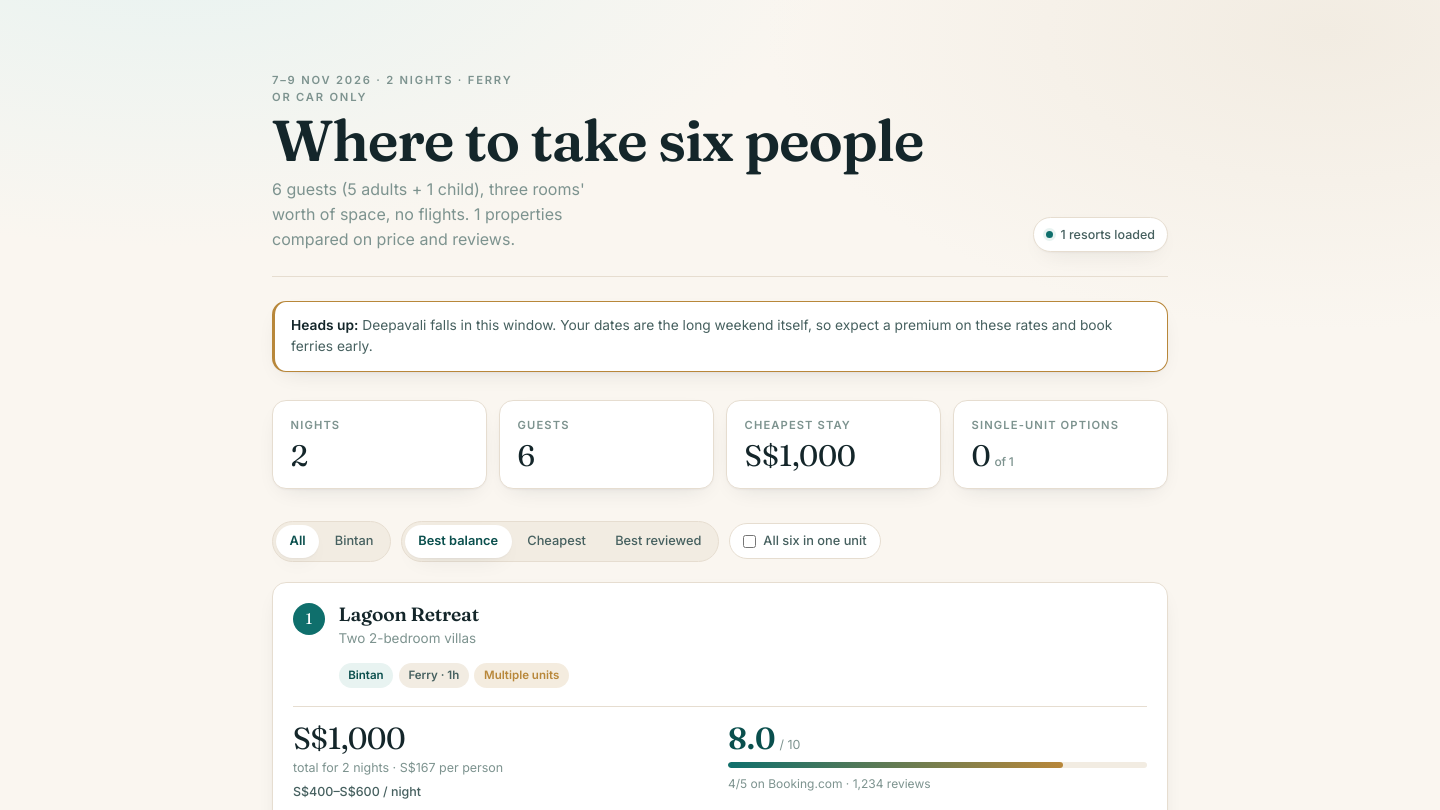
Scenario: App filters › shows the empty state when nothing matches
The width and height of the screenshot is (1440, 810).
Expected: the heading "Lagoon Retreat" is shown, left=339, top=602, right=479, bottom=626
Click the checkbox labelled "All six in one unit": (750, 541) left=743, top=535, right=756, bottom=548
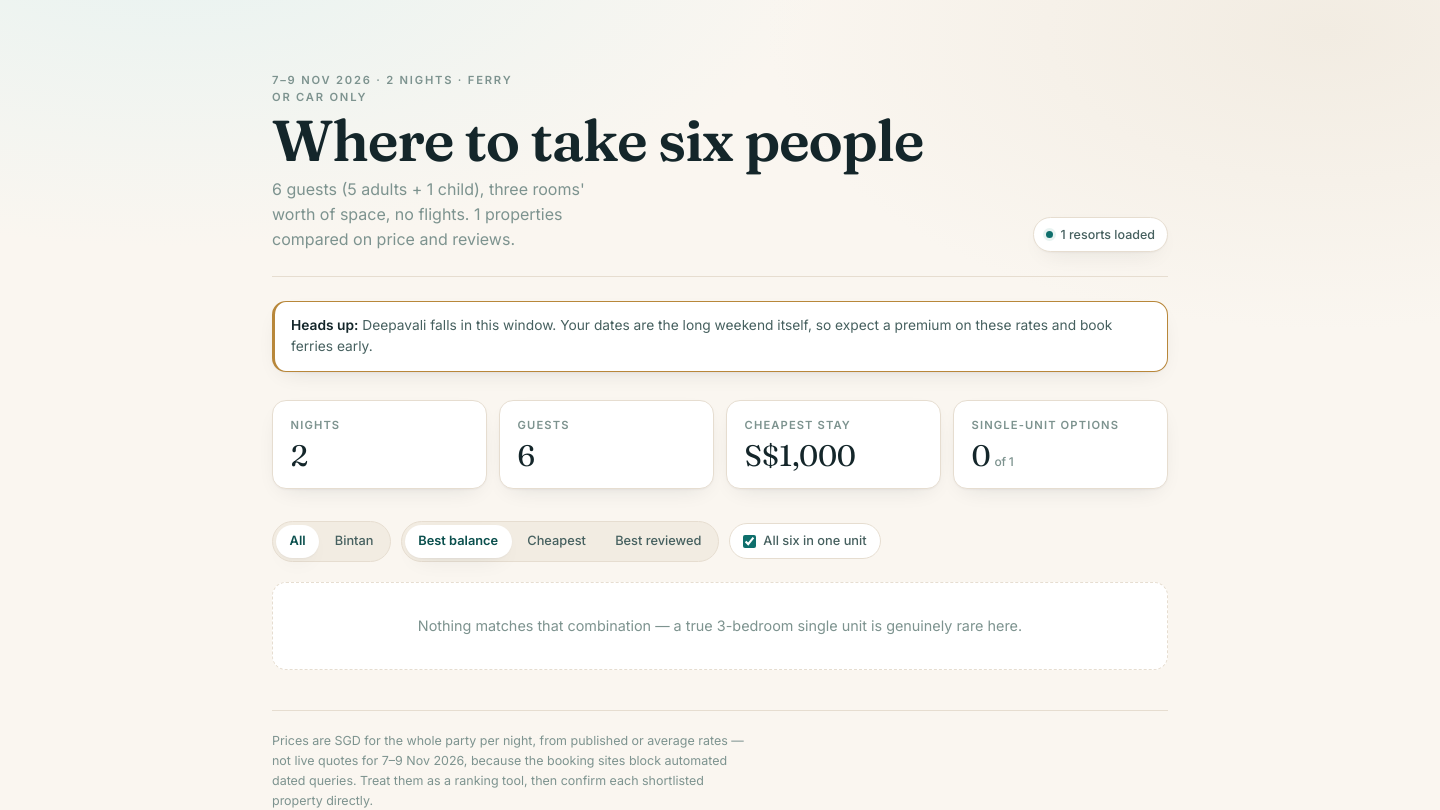
Result: the text "Nothing matches that combination" is shown at left=418, top=617, right=1022, bottom=634
